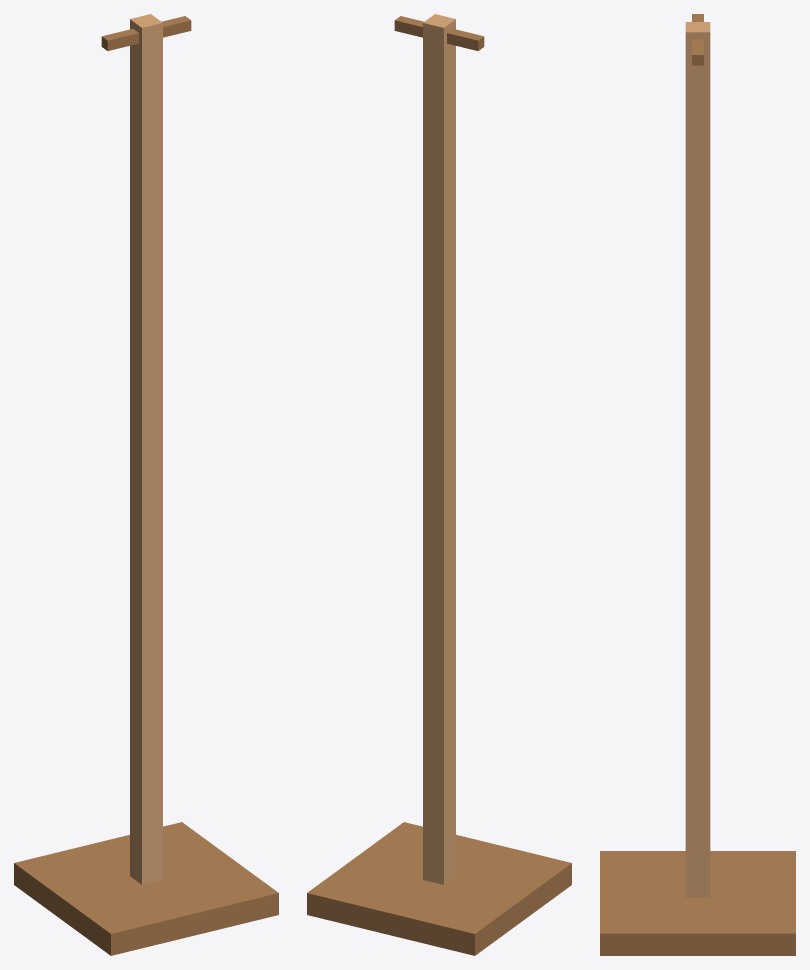
The model's file is Flags_Pillar.fbx.
3 views of the same model, side by side, from view 1: azimuth 30°, elevation 25°; view 2: azimuth 150°, elevation 25°; view 3: azimuth 270°, elevation 25° (orthographic).
Parts seen in each view (by area): view 1: Flags_Pillar; view 2: Flags_Pillar; view 3: Flags_Pillar.
Part boxes in pixels (box(x1,y1,x2,y2)): Flags_Pillar: box(14, 14, 278, 955); Flags_Pillar: box(307, 14, 571, 955); Flags_Pillar: box(600, 14, 795, 955).
Bounding box in the file's own units: 40 × 200 × 40.
